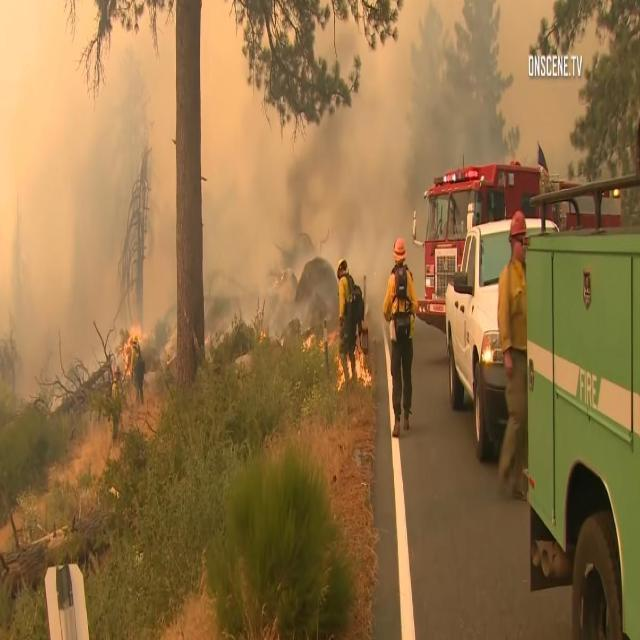Fire: (331, 345, 372, 388), (303, 326, 318, 358), (124, 338, 130, 378)
Smoke: (22, 142, 132, 333), (220, 142, 306, 314), (351, 103, 424, 219)
